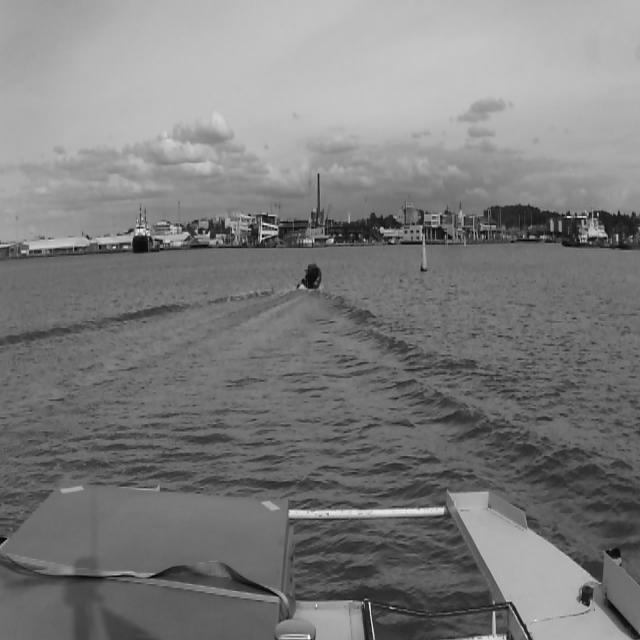buoy: (419, 231, 428, 274), (463, 236, 467, 249)
ship: (561, 206, 605, 249), (296, 258, 324, 297), (132, 204, 148, 252)
